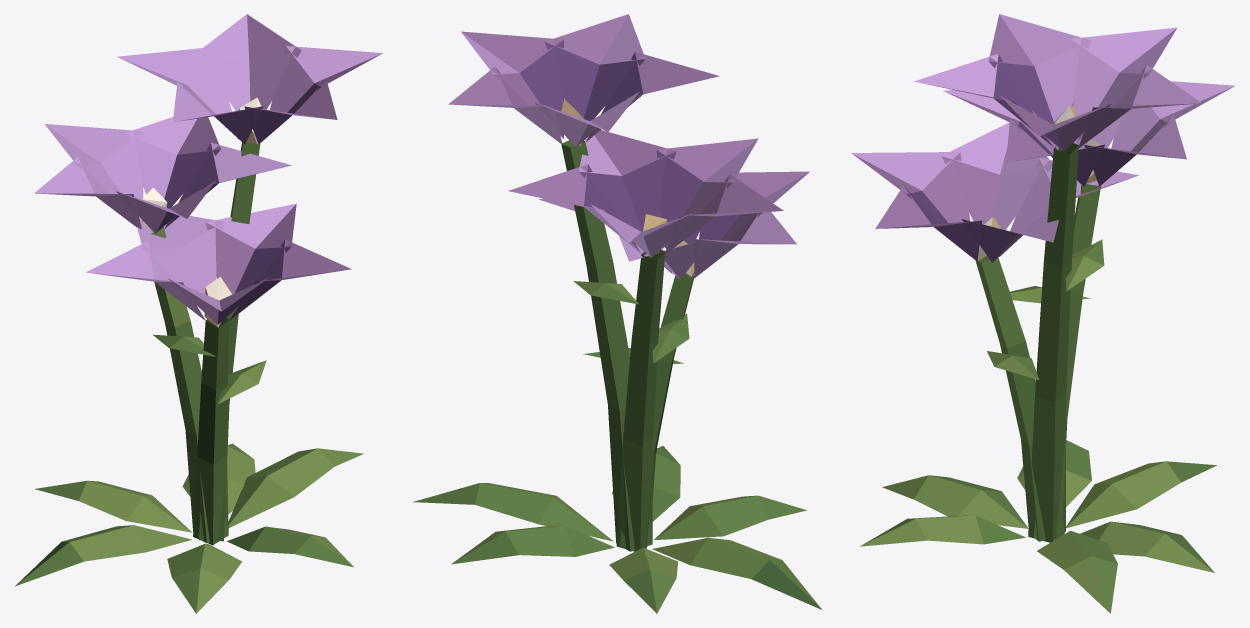
The model's file is flower_purpleB.glb.
3 renders of one model, left to right at view 1: azimuth 30°, elevation 25°; view 2: azimuth 150°, elevation 25°; view 3: azimuth 270°, elevation 25°, orthographic. The views are drawn at different scales.
Visible parts, largest first — view 1: flower_purpleB.002; view 2: flower_purpleB.002; view 3: flower_purpleB.002.
Part boxes in pixels (x1,y1,x2,y2): flower_purpleB.002: (15,14,382,613); flower_purpleB.002: (413,14,821,613); flower_purpleB.002: (851,14,1235,613).
Bounding box in the file's own units: 0.4683 × 0.55 × 0.3835.
